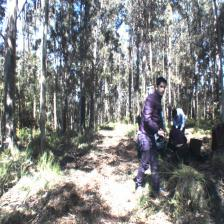trunktrack_idkeyframe: (1, 46, 18, 148), (40, 71, 46, 150)
